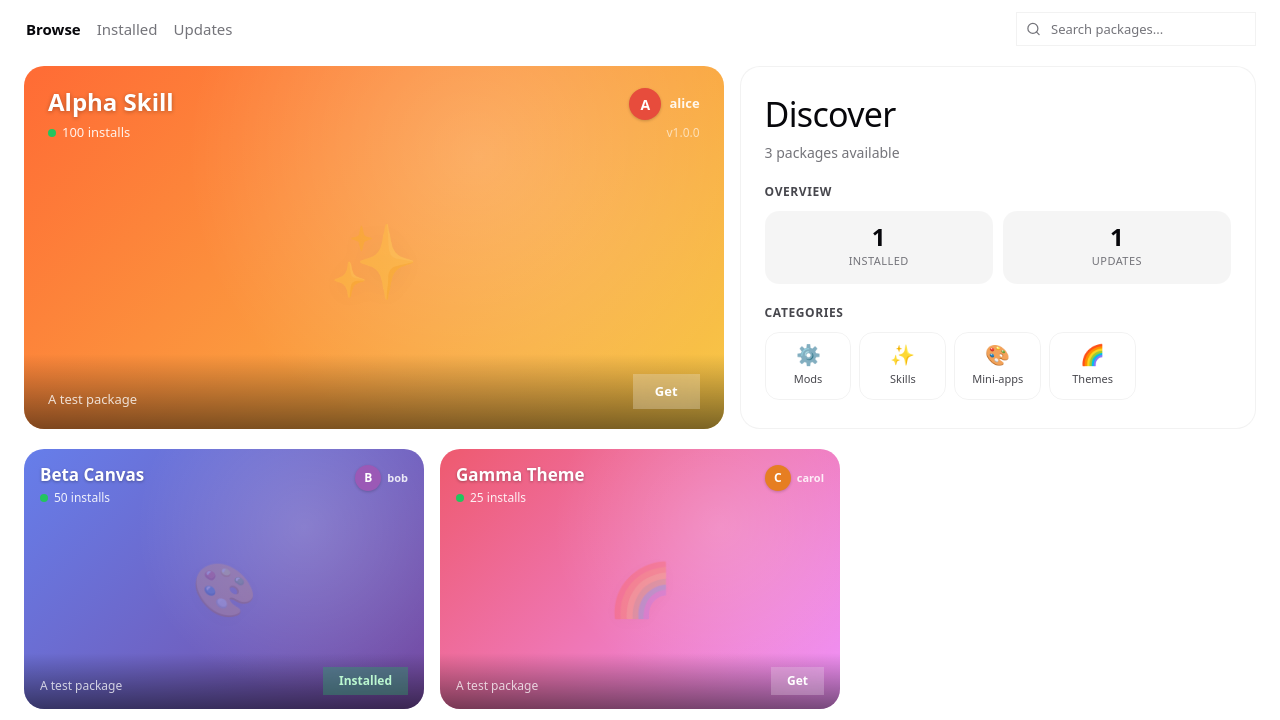
Test: UpdatesList › shows update items with version arrows when updates are available
Click the button with class "store-header-tab" showing "Updates".
click(203, 29)  # box [172,14,234,44]
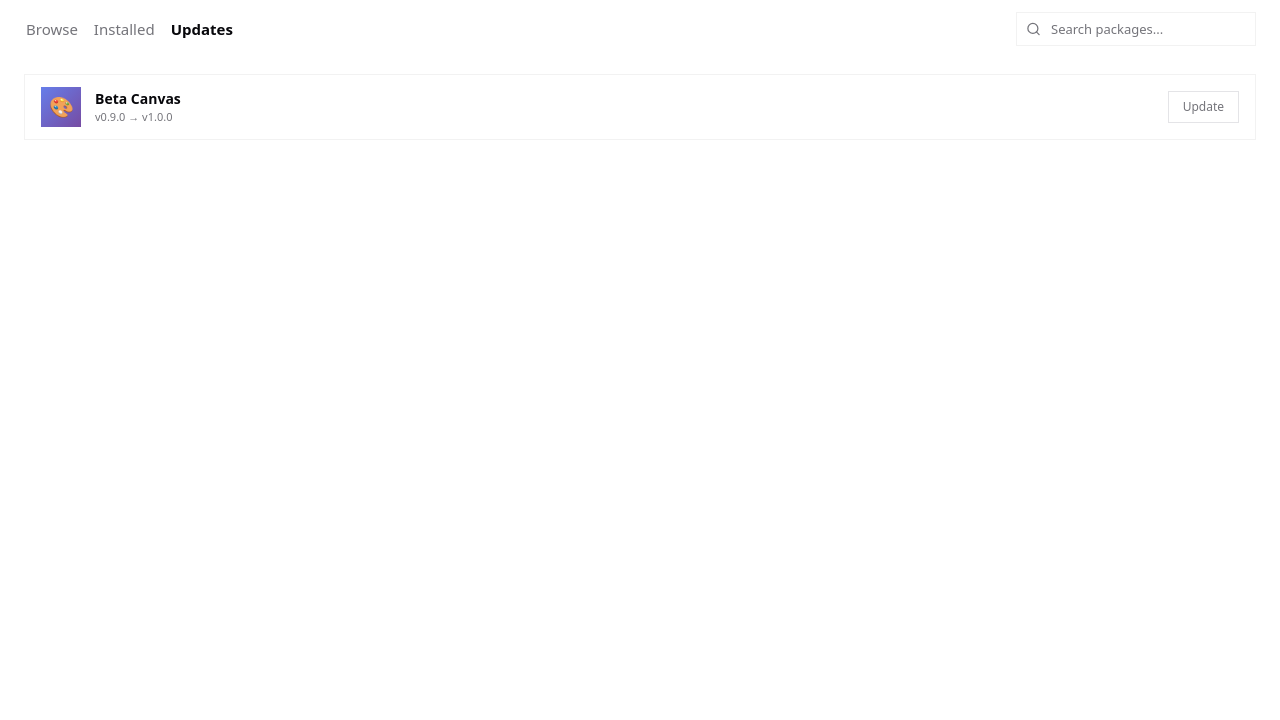
Check: the number of elements with class "store-installed-item" is 1, box [24,74,1256,140]
Check: the text with class "store-installed-version" shows "v0.9.0", box [95,109,172,124]
Check: the text with class "store-installed-version" shows "v1.0.0", box [95,109,172,124]
